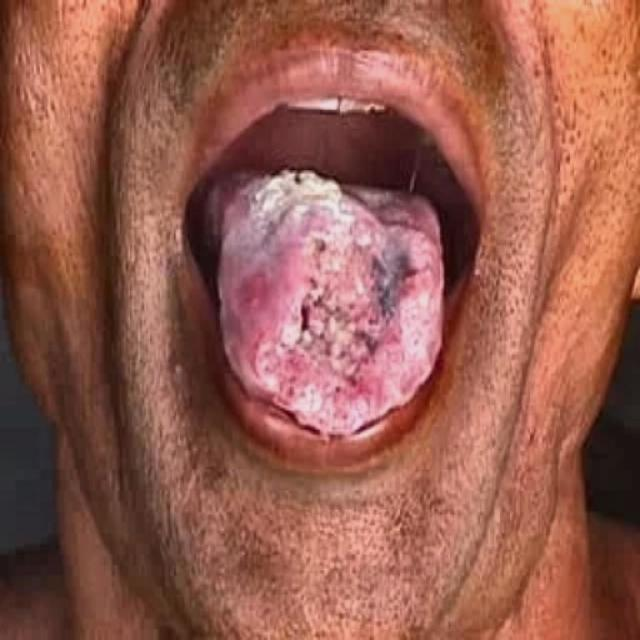cancer-detection: (227, 164, 439, 433)
processing_area: (211, 159, 452, 469)
